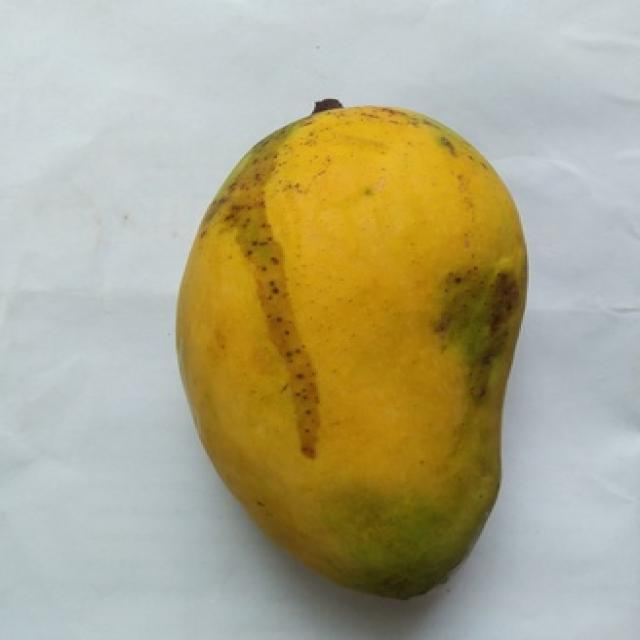Mango: (178, 109, 525, 595)
